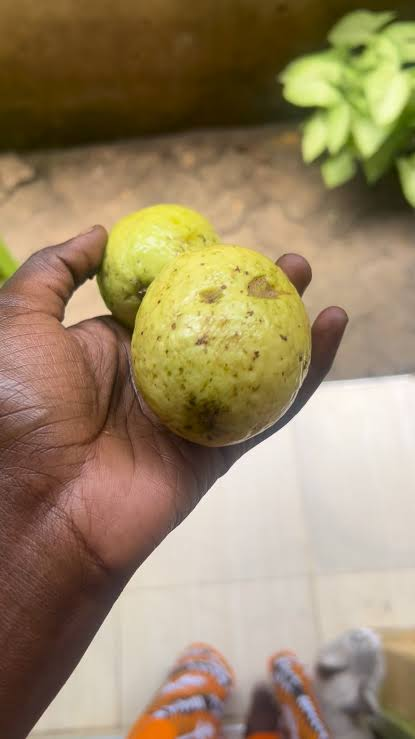guava: (104, 127, 393, 713)
